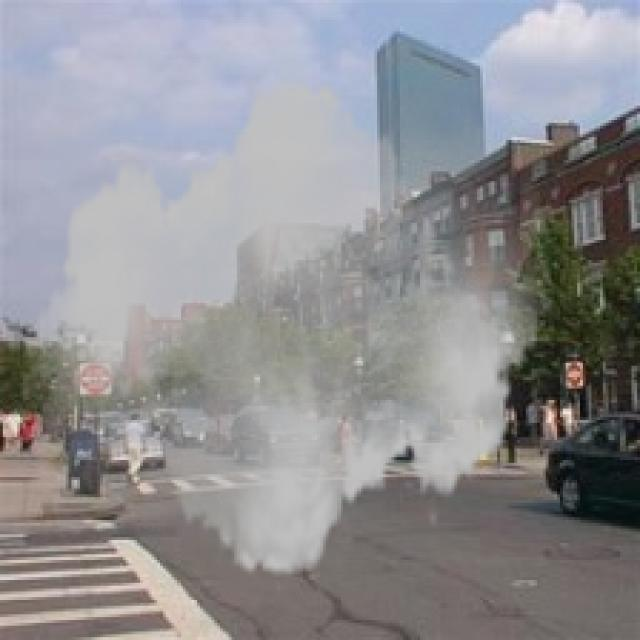Smoke: (22, 60, 552, 597)
